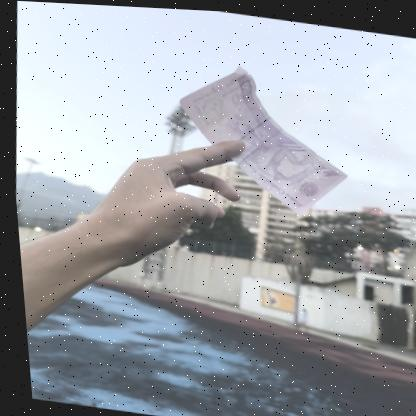one_hundred-back-vef: (165, 53, 357, 220)
